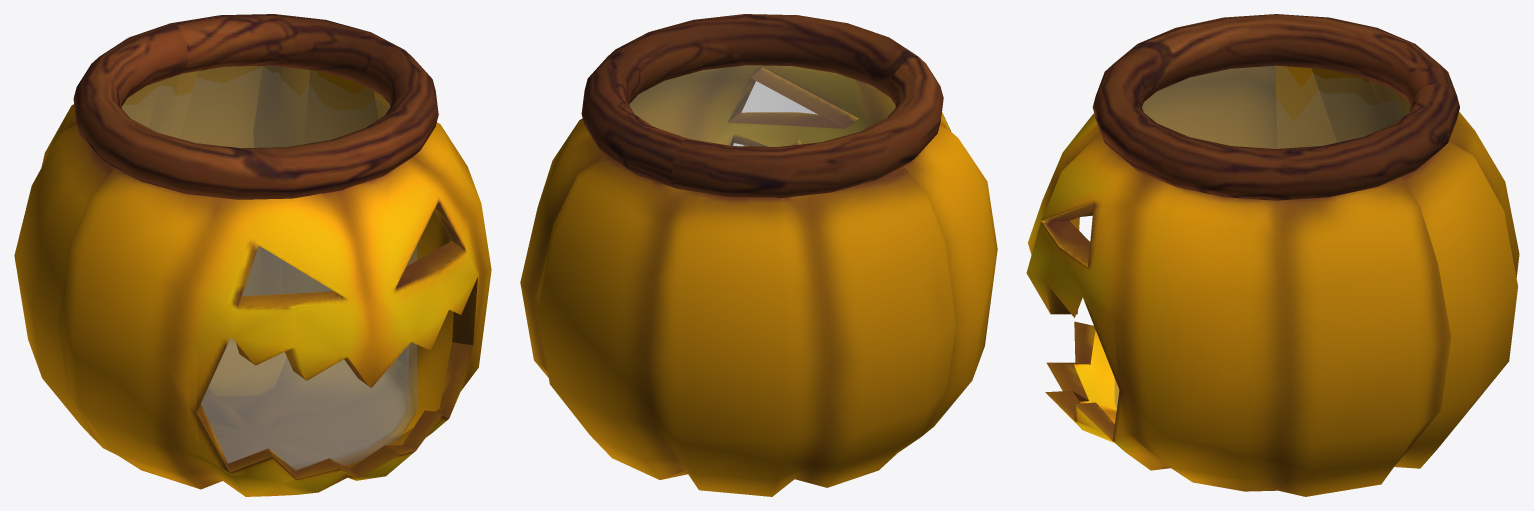
The model's file is 57_Holder_Haloween.fbx.
The picture shows the model from 3 angles, left to right: view 1: azimuth 30°, elevation 25°; view 2: azimuth 150°, elevation 25°; view 3: azimuth 270°, elevation 25°; orthographic projection.
Parts seen in each view (by area): view 1: Haloween_part02, Haloween_part01; view 2: Haloween_part02, Haloween_part01; view 3: Haloween_part02, Haloween_part01.
Part boxes in pixels (x1=…): Haloween_part02: x1=14, y1=14, x2=491, y2=496; Haloween_part01: x1=122, y1=66, x2=416, y2=470; Haloween_part02: x1=520, y1=14, x2=997, y2=496; Haloween_part01: x1=630, y1=65, x2=895, y2=190; Haloween_part02: x1=1026, y1=14, x2=1519, y2=496; Haloween_part01: x1=1115, y1=66, x2=1410, y2=408.
Size of the model in its own units: 2.84 by 2.39 by 2.98.
